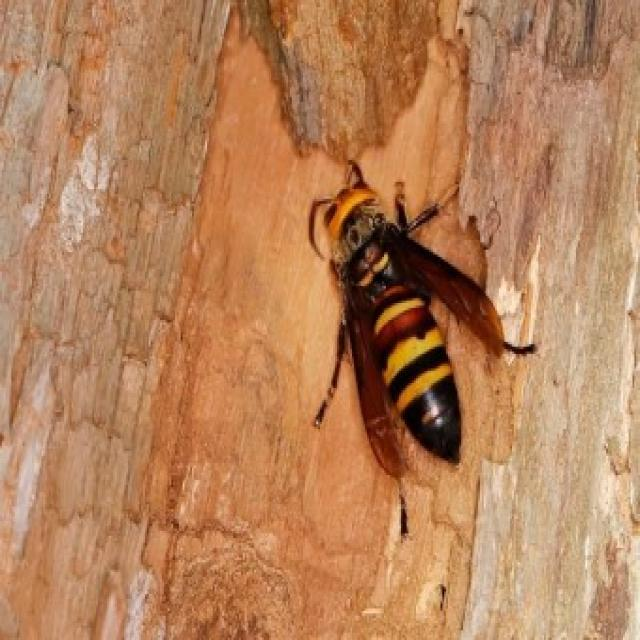Wasp: (295, 162, 540, 540)
